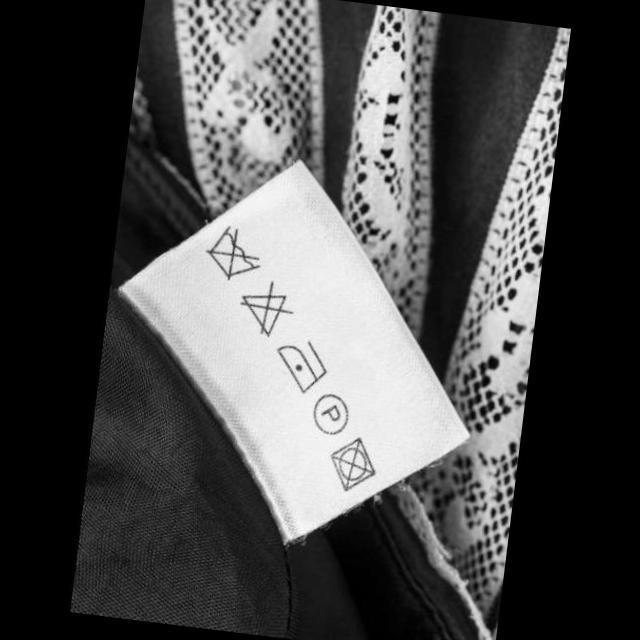DN_bleach: (231, 274, 301, 343)
DN_tumble_dry: (321, 430, 384, 498)
DN_wash: (198, 220, 268, 288)
iron_low: (269, 331, 336, 399)
normal_dry_clean_solvents: (307, 388, 354, 440)
